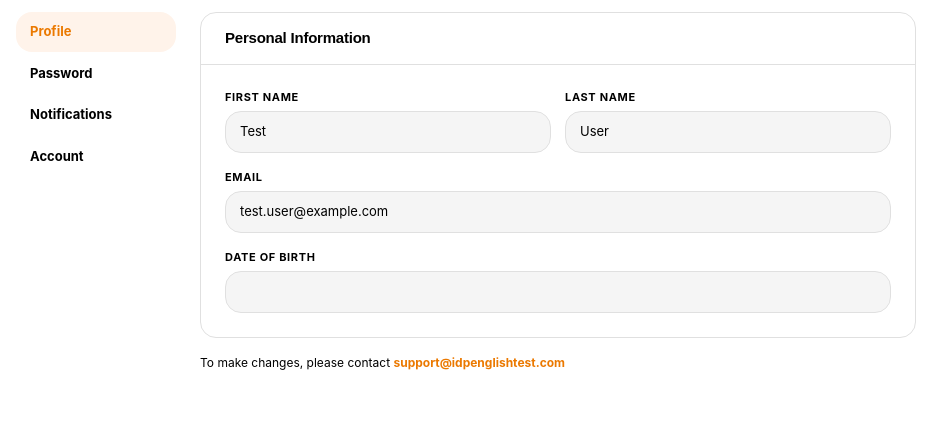
Test: Settings › Password Tab › validates password policy client-side
Step 1. Click the tab "Password" → (96, 73), box [16,54,176,93]
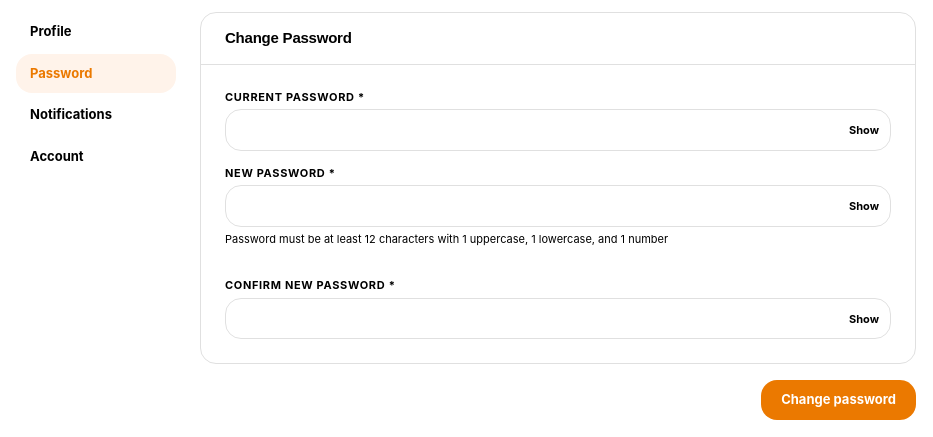
Step 2. Type "OldPass123!" into the password field labelled "Current Password *" → (558, 130), box [225,109,891,151]
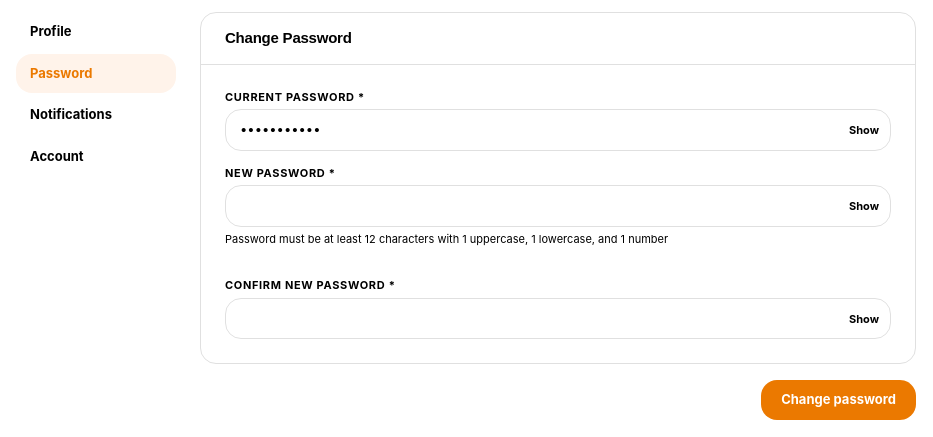
Step 3. Type "weak" into the password field with id "new-password" → (558, 206), box [225,185,891,227]
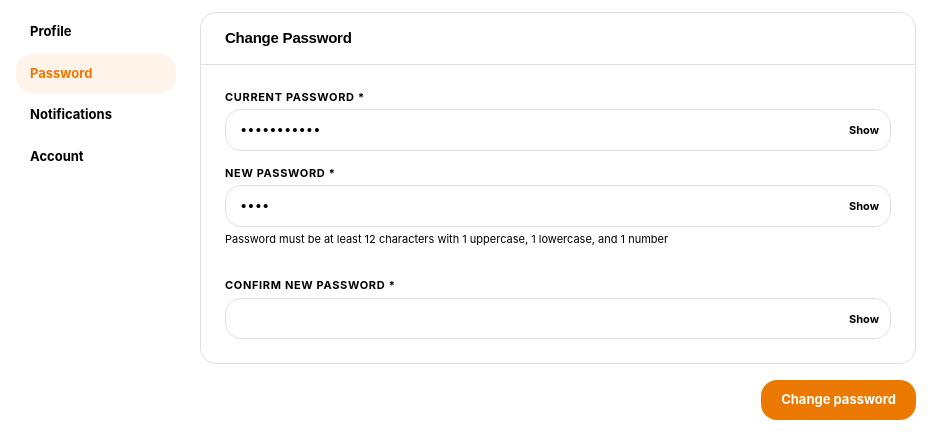
Step 4. Type "weak" into the password field labelled "Confirm New Password *" → (558, 319), box [225,298,891,339]
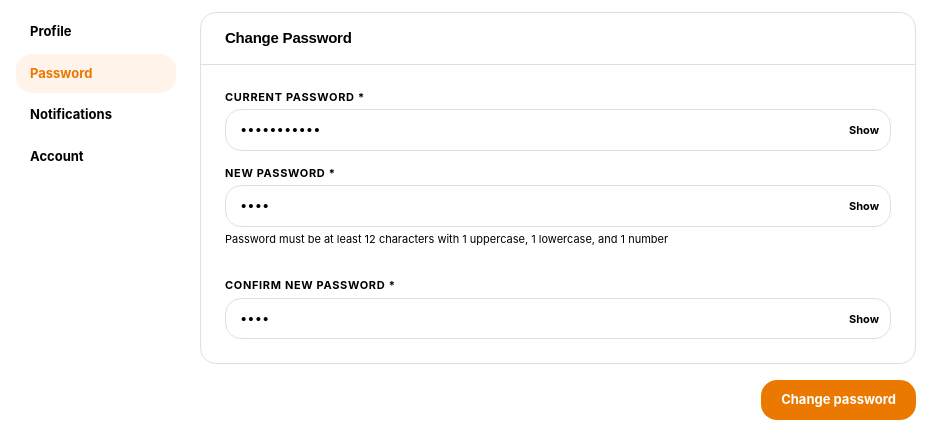
Step 5. Click the button "Change password" → (839, 400), box [761,380,916,420]
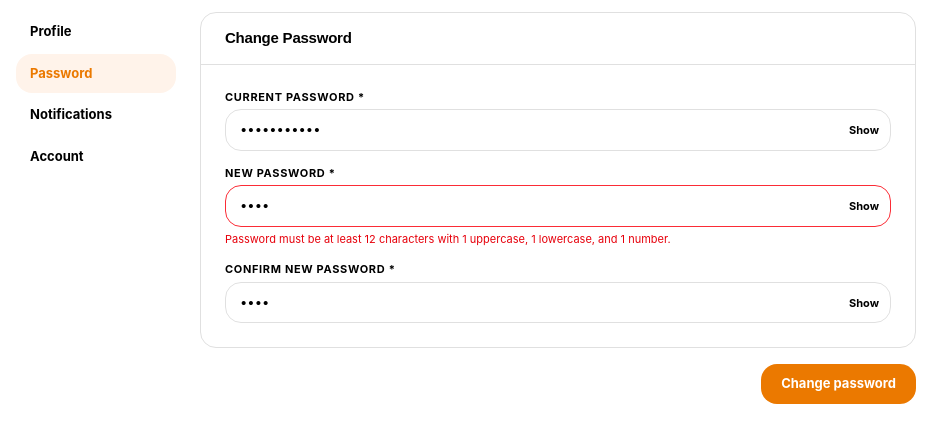
Expected: the text "Password must be at least 12 characters with 1 uppercase, 1 lowercase, and 1 number" is shown, [225,232,671,246]
